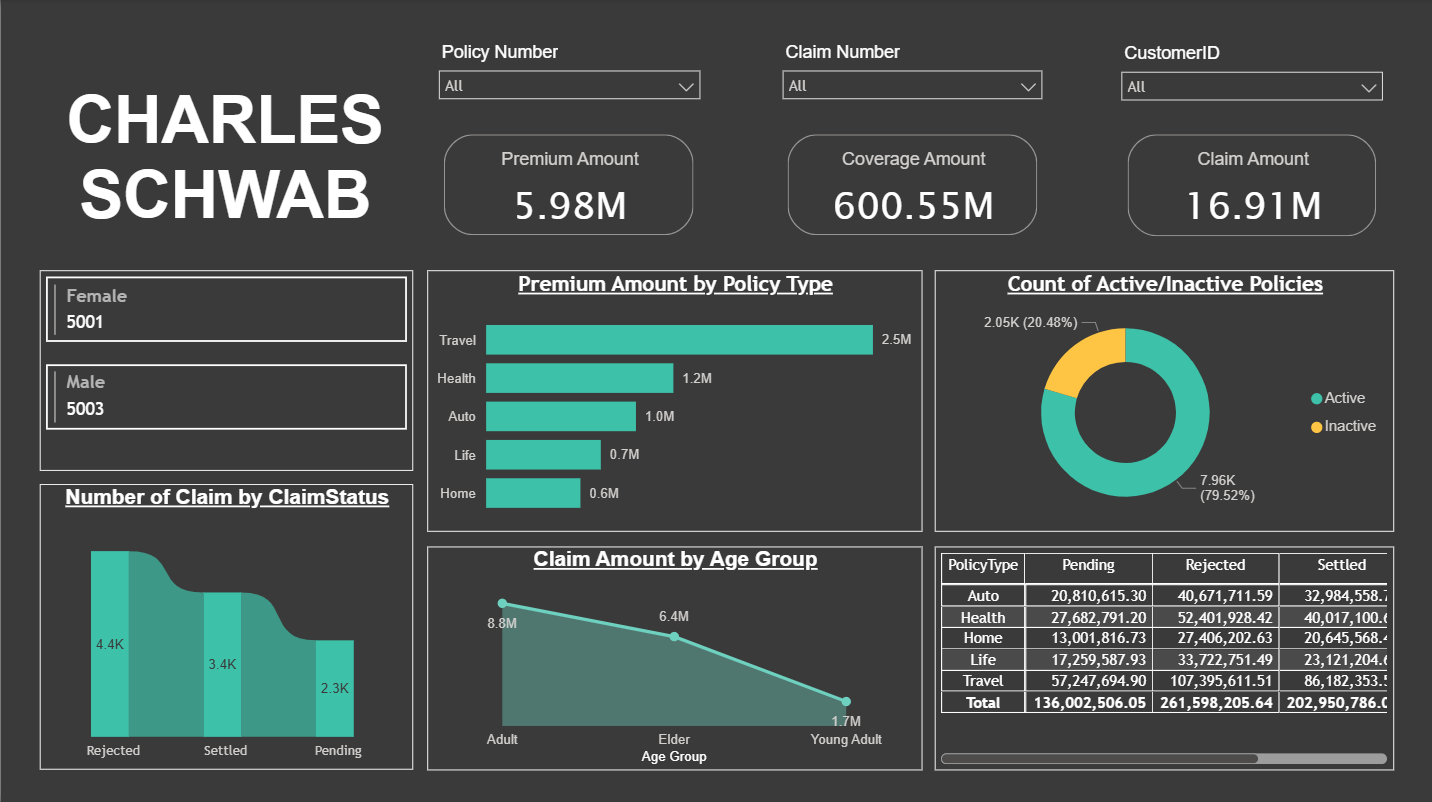

The page's visual inventory and layout, read from the dashboard file:
{"tool":"powerbi","page":{"name":"Page 1","canvas":[1280,720],"ordinal":0},"visuals":[{"type":"slicer","fields":{"Values":["InsuranceData (2).ClaimNumber"]},"box":[687.8,33.9,252.4,72.3],"z":0},{"type":"textbox","box":[33.9,70.8,333.6,168.3],"z":1000},{"type":"slicer","fields":{"Values":["InsuranceData (2).CustomerID"]},"box":[990.5,34.2,254,72.1],"z":2000},{"type":"slicer","fields":{"Values":["InsuranceData (2).PolicyNumber"]},"box":[380.8,33.9,253.9,72.3],"z":3000},{"type":"cardVisual","fields":{"Data":["Sum(InsuranceData (2).PremiumAmount)"]},"box":[391.1,116.6,233.2,100.4],"z":4000},{"type":"cardVisual","fields":{"Data":["Sum(InsuranceData (2).CoverageAmount)"]},"box":[698.2,116.6,233.2,100.4],"z":5000},{"type":"cardVisual","fields":{"Data":["Sum(InsuranceData (2).ClaimAmount)"]},"box":[1001.5,116,232.1,101.4],"z":6000},{"type":"multiRowCard","fields":{"Values":["InsuranceData (2).Gender","CountNonNull(InsuranceData (2).Gender)"]},"box":[34.2,241.8,333.4,179.5],"z":7000},{"type":"ribbonChart","title":"Number of Claim by ClaimStatus","fields":{"Category":["InsuranceData (2).ClaimStatus"],"Y":["CountNonNull(InsuranceData (2).ClaimStatus)"]},"box":[34.2,433.6,333.4,255.3],"z":8000},{"type":"barChart","title":"Premium Amount by Policy Type","fields":{"Category":["InsuranceData (2).PolicyType"],"Y":["Sum(InsuranceData (2).PremiumAmount)"]},"box":[381.1,241.8,442.1,233.3],"z":9000},{"type":"lineChart","title":"Claim Amount by Age Group","fields":{"Category":["InsuranceData (2).Age Group"],"Y":["Sum(InsuranceData (2).ClaimAmount)"]},"box":[381.1,488.5,442.1,200.3],"z":10000},{"type":"donutChart","title":"Count of Active/Inactive Policies","fields":{"Category":["InsuranceData (2).Active/Inactive"],"Y":["CountNonNull(InsuranceData (2).Active/Inactive)"]},"box":[834.2,241.8,410.4,233.3],"z":11000},{"type":"pivotTable","fields":{"Values":["Sum(InsuranceData (2).CoverageAmount)"],"Rows":["InsuranceData (2).PolicyType"],"Columns":["InsuranceData (2).ClaimStatus"]},"box":[834.2,488.5,410.4,200.3],"z":12000}]}

Visuals, with their boxes in screenshot pixels (x1, y1, x2, y2), scaled from the page's 1280x720 canvas onto the 1432x802 screenshot:
slicer - InsuranceData (2).ClaimNumber: BBox(769, 38, 1052, 118)
textbox: BBox(38, 79, 411, 266)
slicer - InsuranceData (2).CustomerID: BBox(1108, 38, 1392, 118)
slicer - InsuranceData (2).PolicyNumber: BBox(426, 38, 710, 118)
cardVisual - Sum(InsuranceData (2).PremiumAmount): BBox(438, 130, 698, 242)
cardVisual - Sum(InsuranceData (2).CoverageAmount): BBox(781, 130, 1042, 242)
cardVisual - Sum(InsuranceData (2).ClaimAmount): BBox(1120, 129, 1380, 242)
multiRowCard - InsuranceData (2).Gender x CountNonNull(InsuranceData (2).Gender): BBox(38, 269, 411, 469)
"Number of Claim by ClaimStatus" ribbonChart: BBox(38, 483, 411, 767)
"Premium Amount by Policy Type" barChart: BBox(426, 269, 921, 529)
"Claim Amount by Age Group" lineChart: BBox(426, 544, 921, 767)
"Count of Active/Inactive Policies" donutChart: BBox(933, 269, 1392, 529)
pivotTable - Sum(InsuranceData (2).CoverageAmount) x InsuranceData (2).PolicyType: BBox(933, 544, 1392, 767)
